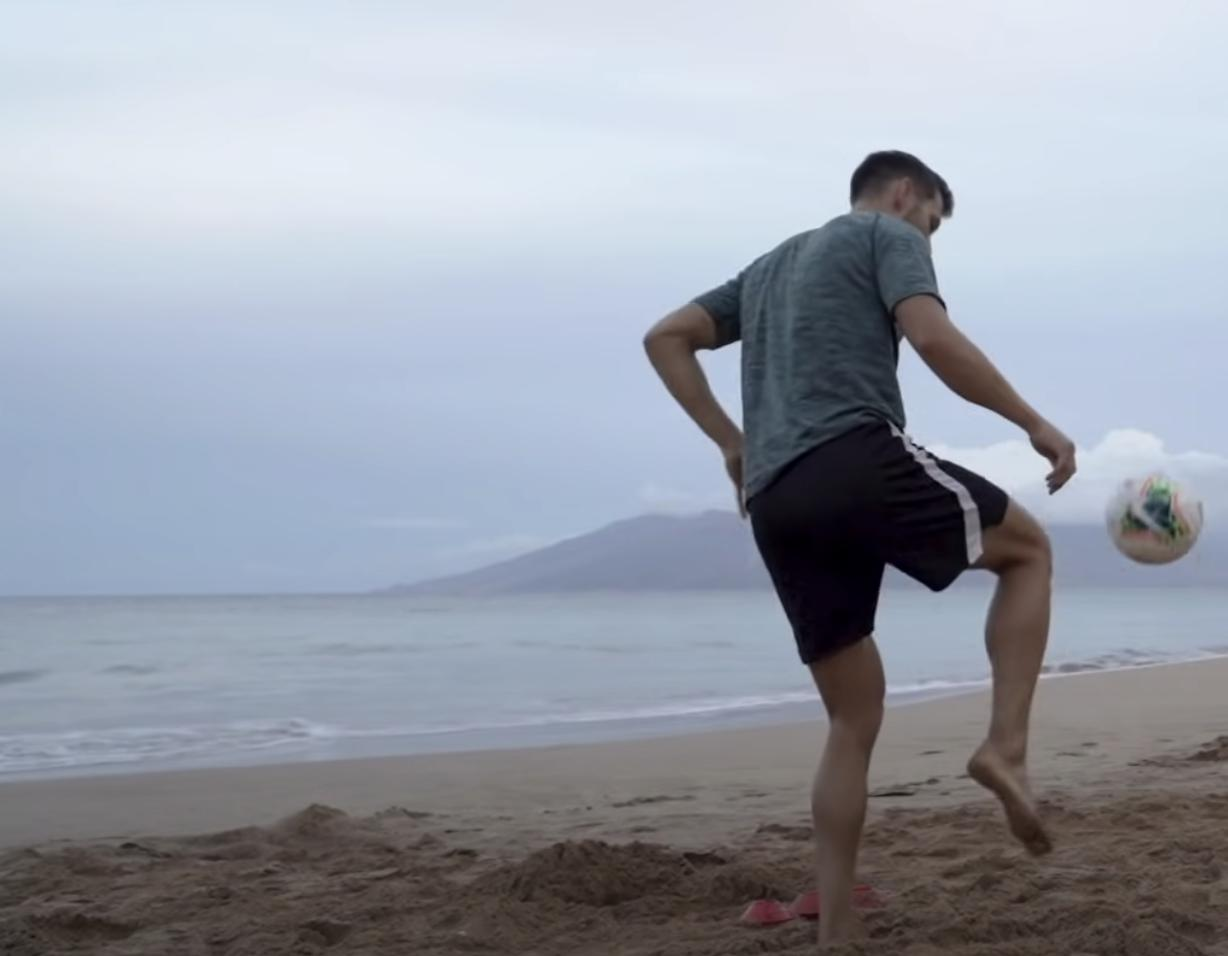ball: (1102, 470, 1203, 566)
foot: (964, 738, 1058, 859)
person: (646, 149, 1078, 955)
